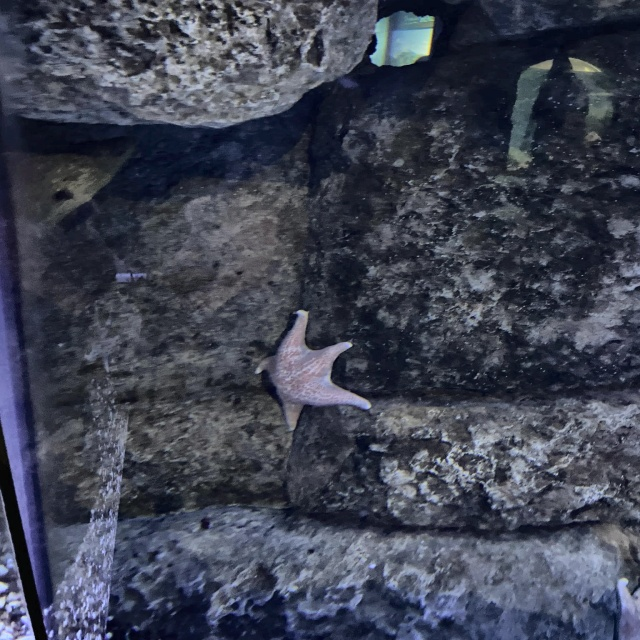starfish: (254, 310, 372, 430)
